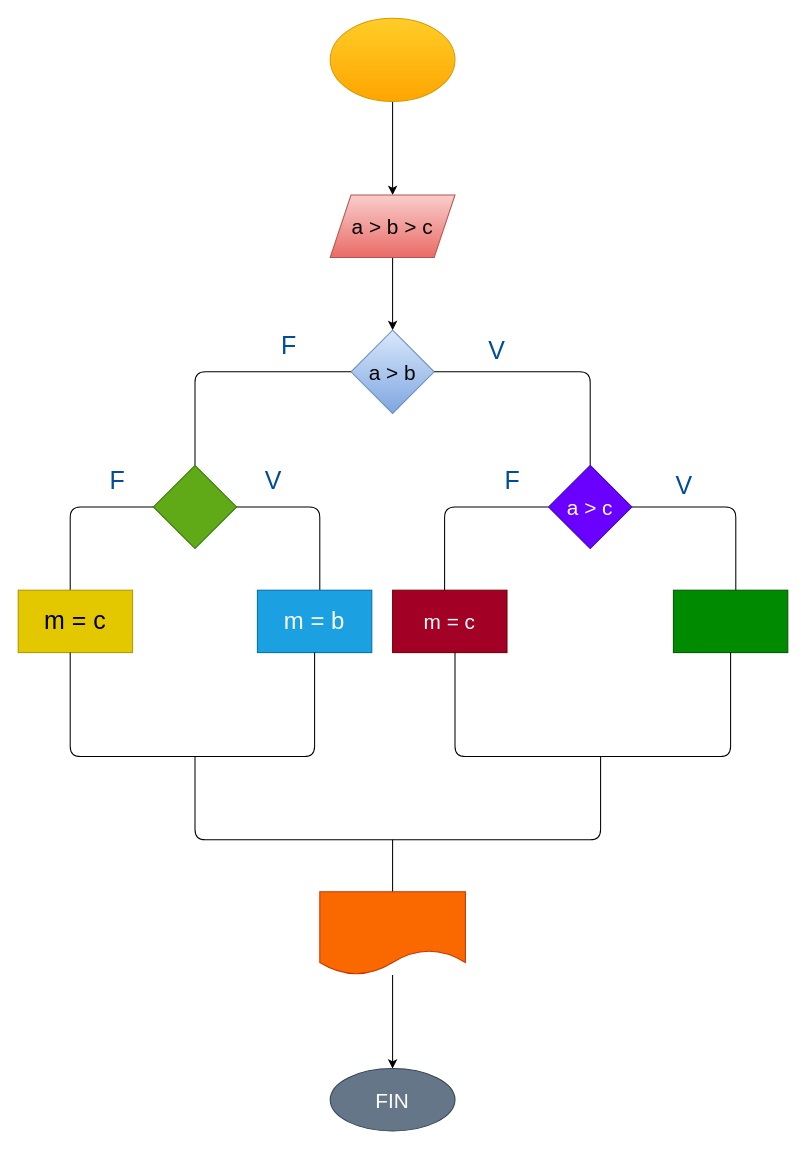
This 806x1149 diagram has some shape labels left out. Each missing label, with the box of its shape:
b > c: (152, 464, 237, 549)
INICIO: (329, 17, 455, 101)
m = a: (672, 589, 788, 653)
orden de > a <: (319, 891, 465, 975)
